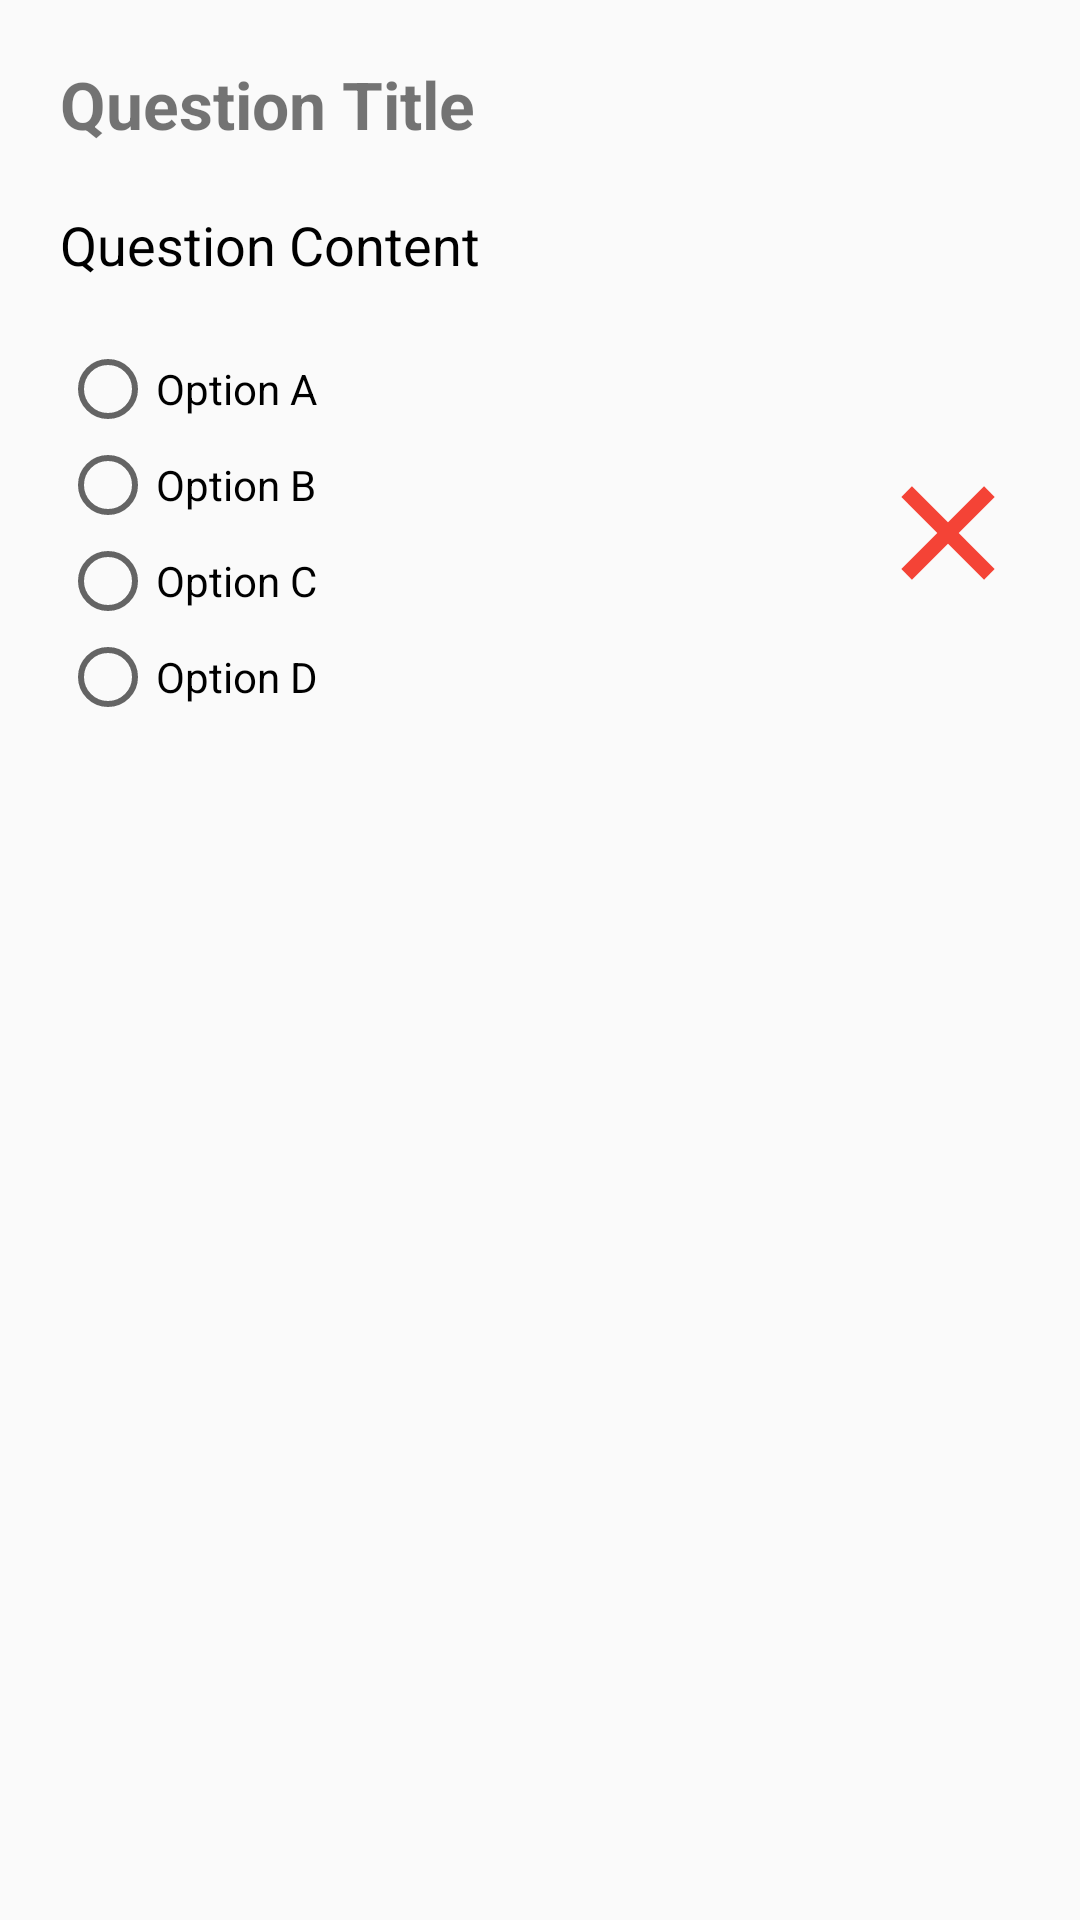

Icons on this 1080 x 1920 Android screen, each with its box as [x1, y1, x2, y2]:
cross: [901, 486, 995, 580]
